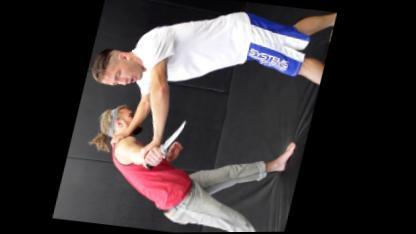knife: (145, 114, 193, 174)
